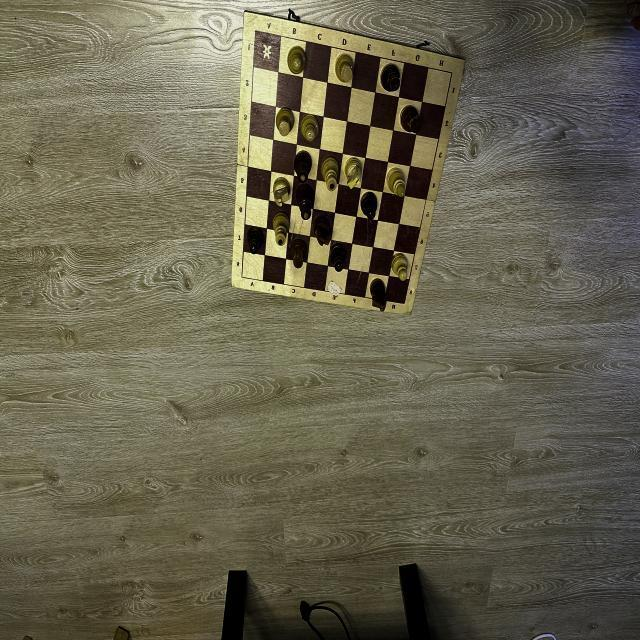chess-table-corners: (253, 27, 258, 34), (240, 274, 244, 280), (451, 71, 454, 75), (403, 302, 406, 305)
